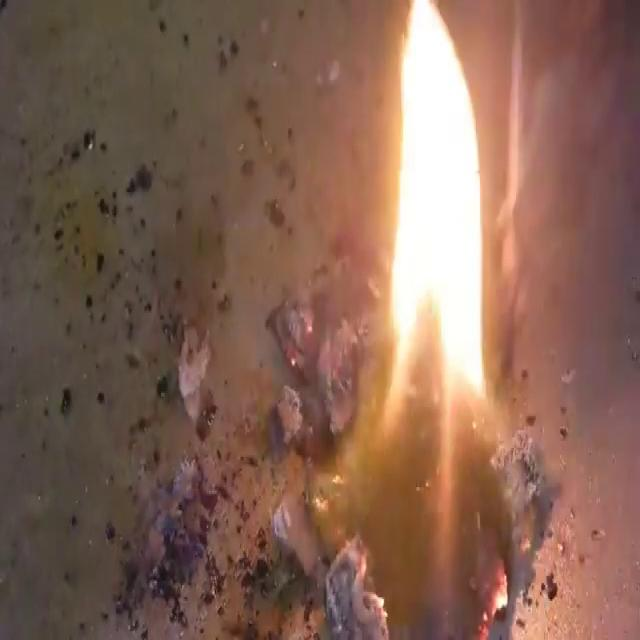Fire: (4, 2, 636, 636), (381, 3, 489, 425)
